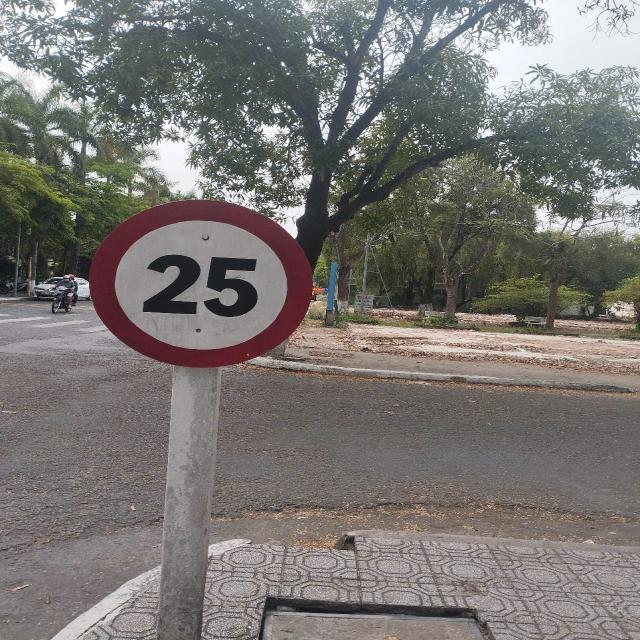Tre_Em: (88, 198, 315, 370)
